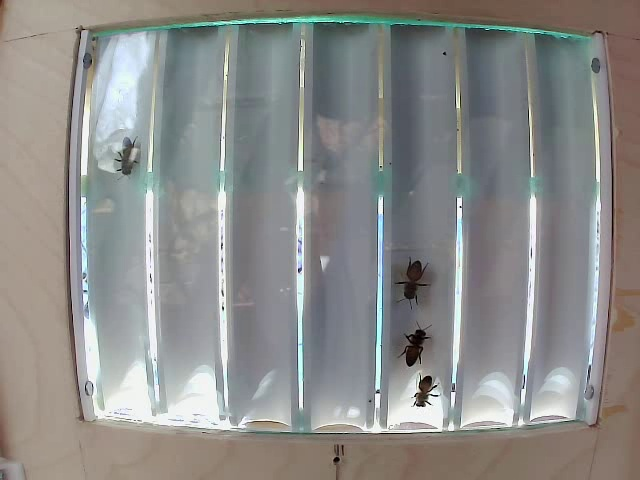bee: (393, 247, 438, 310), (387, 317, 433, 363), (118, 134, 153, 188), (402, 365, 437, 412)
